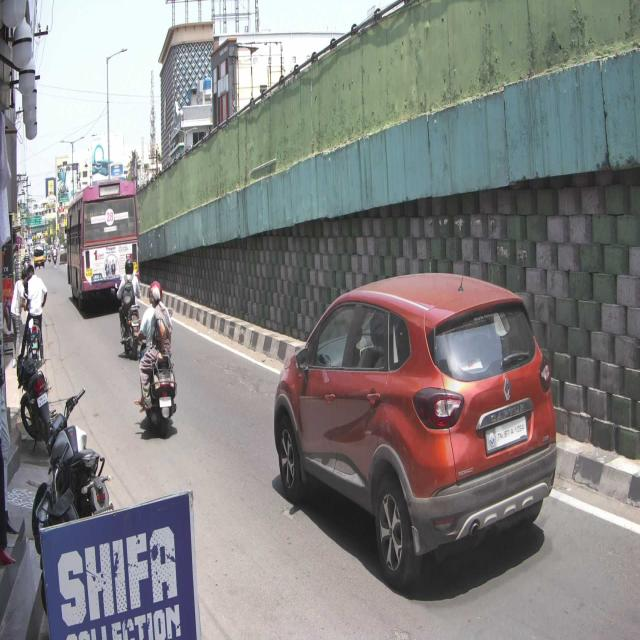double_rider: (140, 276, 178, 436)
